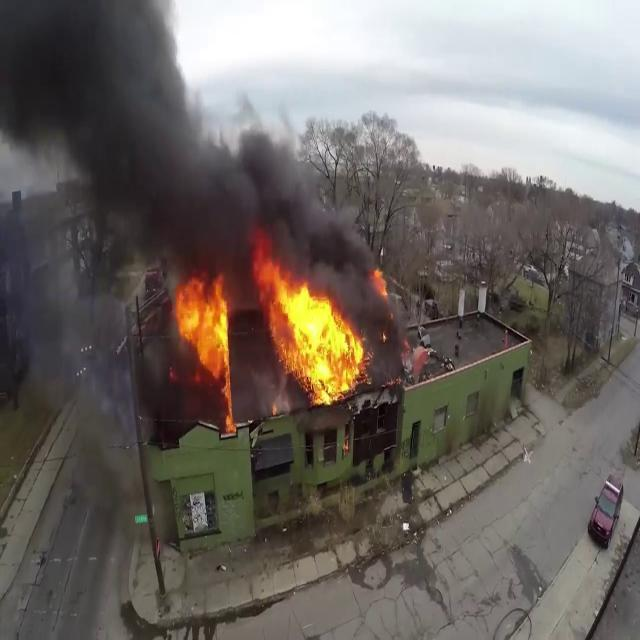Fire: (262, 263, 372, 407), (170, 274, 238, 424)
Smoke: (0, 0, 367, 288)
